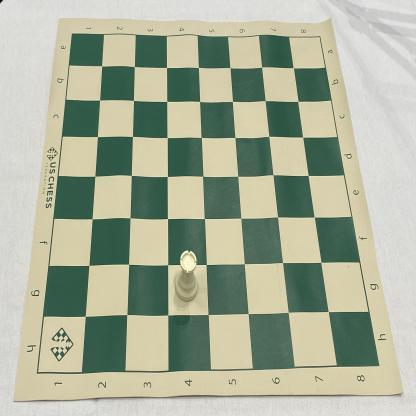white-rook: (174, 250, 199, 303)
